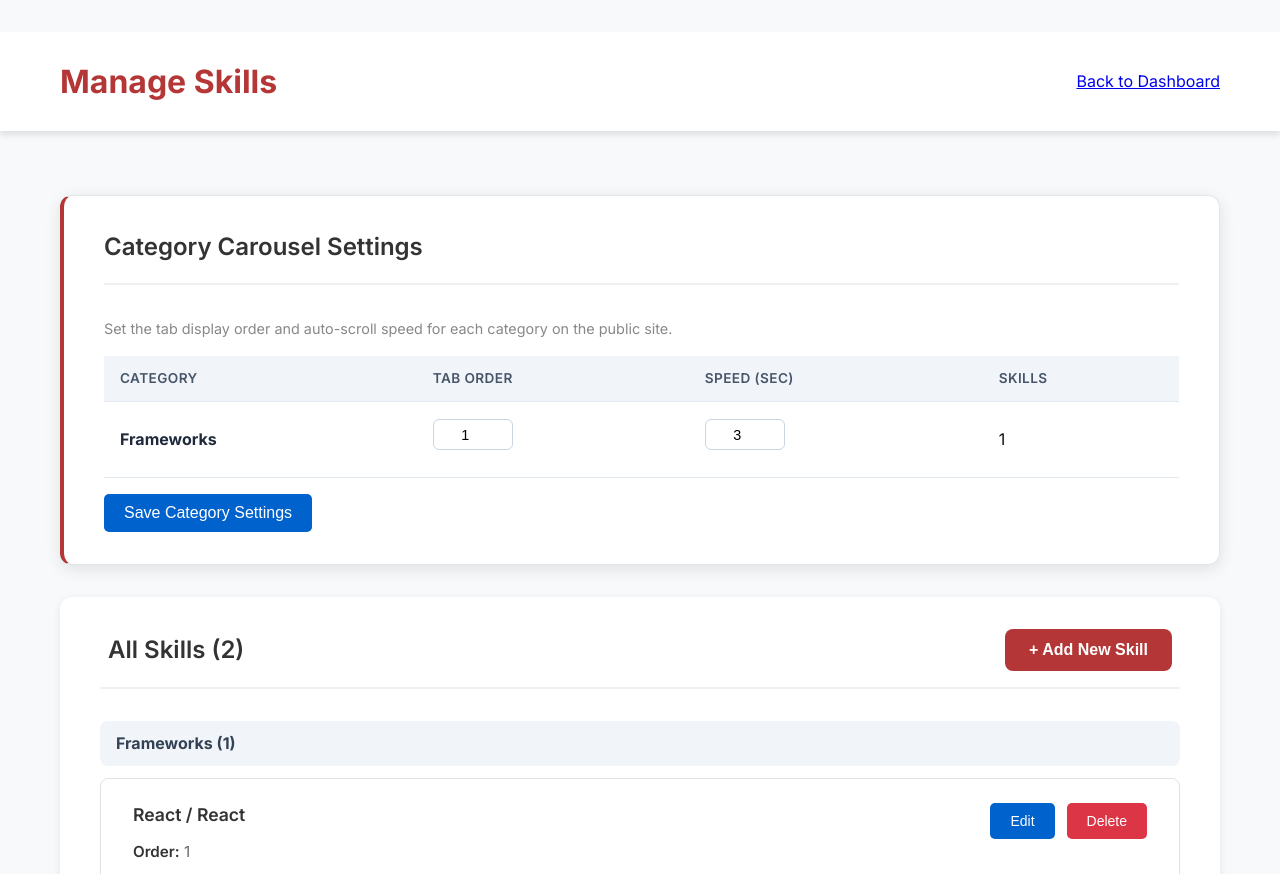
AdminSkills › handles delete error
Click the button "Delete": (1107,821) [1066, 803, 1147, 839]
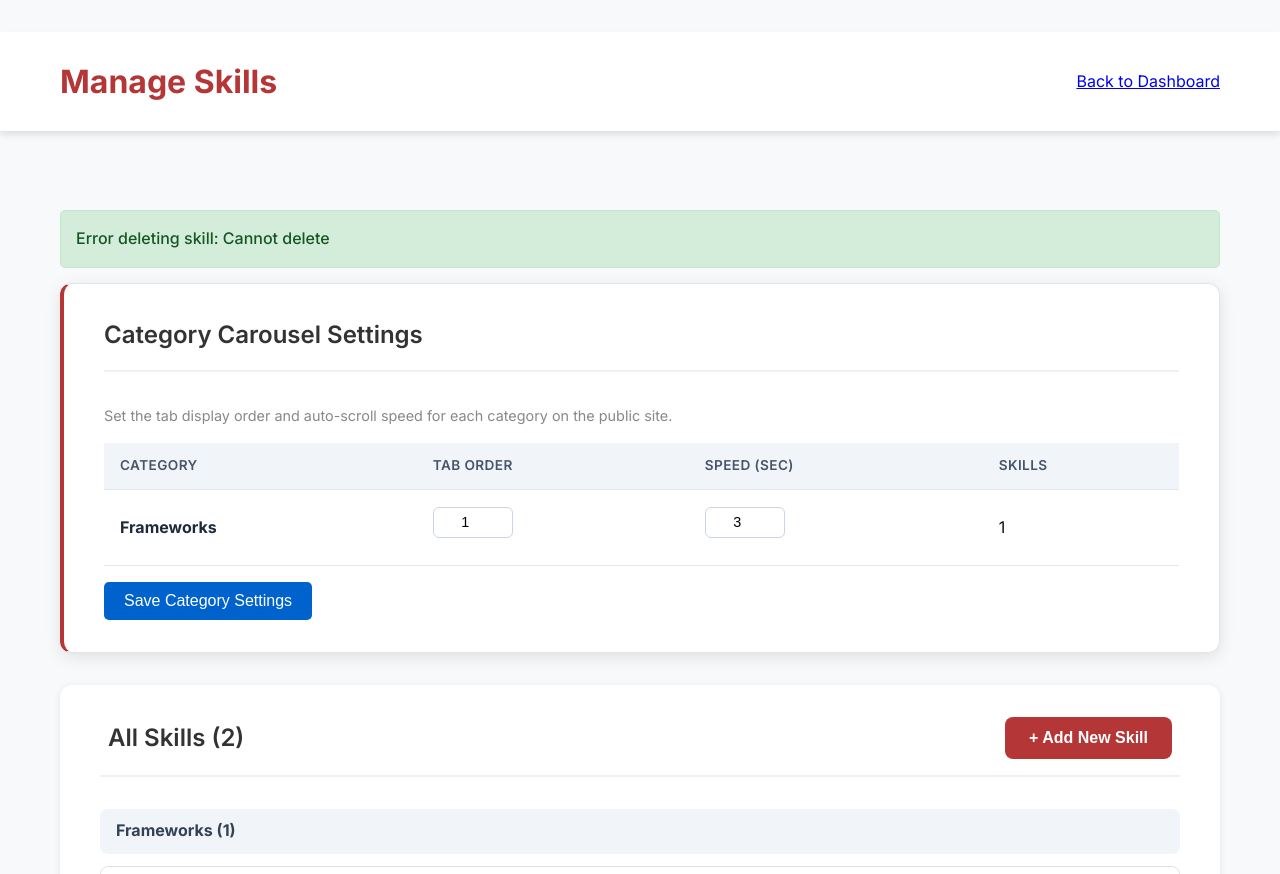
Expected: the text "Error deleting skill: Cannot delete" is shown, [60, 210, 1220, 268]
